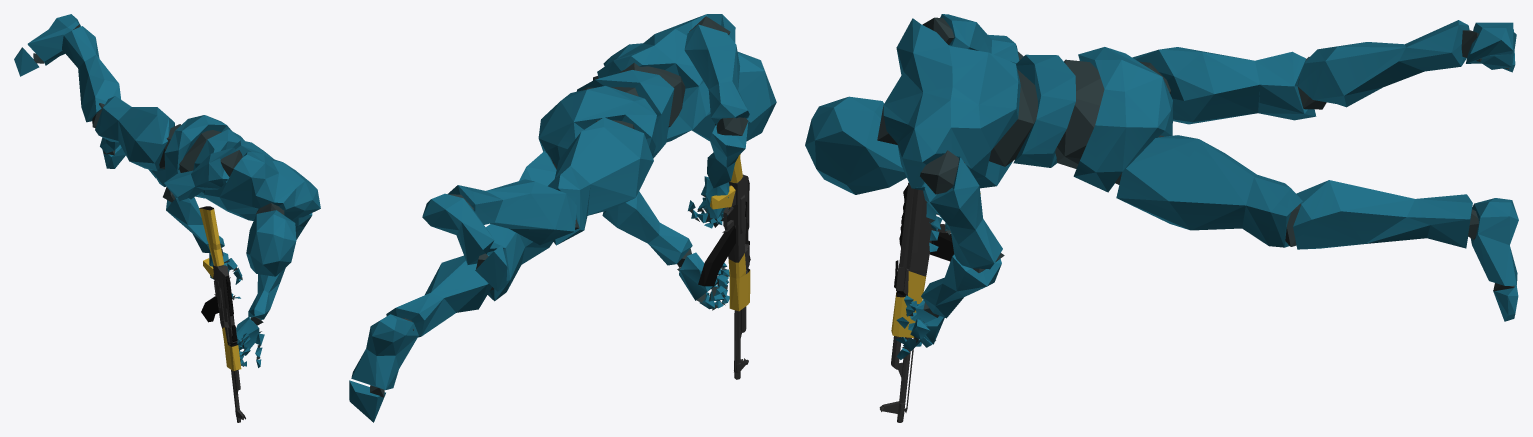
The model's file is EnemyDying_000011.obj.
3 views of the same model, side by side, from view 1: azimuth 30°, elevation 25°; view 2: azimuth 150°, elevation 25°; view 3: azimuth 270°, elevation 25° (orthographic). The views are drawn at different scales.
Visible parts, largest first — view 1: Alpha_Surface, AK-47_Cube, Alpha_Joints; view 2: Alpha_Surface, AK-47_Cube, Alpha_Joints; view 3: Alpha_Surface, Alpha_Joints, AK-47_Cube.
Boxes of the visible parts, x1,y1,x2,y2 form: Alpha_Surface: (14,14,320,367); AK-47_Cube: (199,206,245,422); Alpha_Joints: (33,24,284,366); Alpha_Surface: (349,14,776,422); AK-47_Cube: (698,124,750,379); Alpha_Joints: (370,16,748,397); Alpha_Surface: (805,14,1518,359); Alpha_Joints: (877,17,1514,349); AK-47_Cube: (879,182,980,422).
Bounding box in the file's own units: 111 × 211 × 331.
